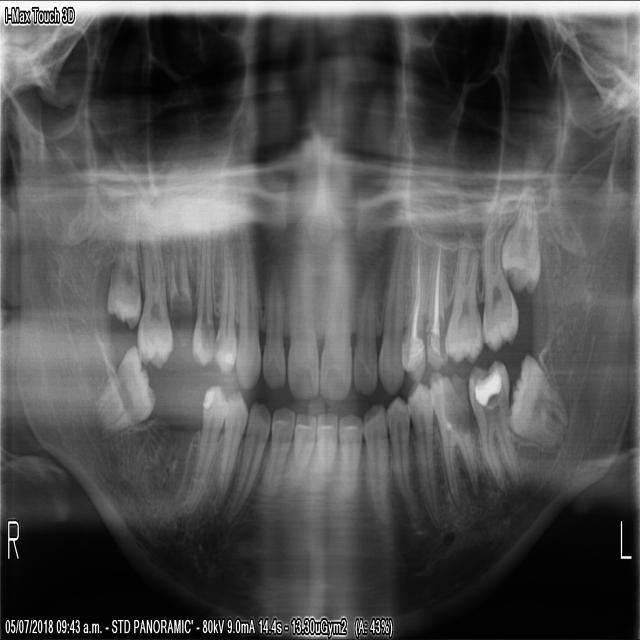LCD: (363, 402, 391, 527)
LCU: (377, 224, 409, 397)
LID: (315, 408, 338, 502), (337, 413, 361, 502)
LIU: (321, 234, 351, 400), (351, 250, 378, 394)
LMD: (467, 357, 520, 492), (429, 372, 480, 510), (506, 353, 568, 452)
LMU: (445, 229, 483, 364), (481, 219, 519, 353), (499, 185, 541, 292)
LPMD: (407, 382, 439, 529), (387, 392, 419, 524)
LPMU: (401, 228, 429, 383), (426, 237, 449, 367)
RCD: (224, 400, 273, 524)
RCU: (235, 222, 261, 392)
RID: (259, 404, 295, 503), (282, 412, 316, 492)
RIU: (287, 239, 321, 399), (262, 248, 286, 390)
RMD: (92, 343, 158, 435)
RMU: (133, 233, 175, 368), (105, 232, 143, 330), (163, 239, 191, 338)
RPMD: (185, 379, 225, 520), (211, 392, 250, 519)
RPMU: (213, 232, 237, 380), (192, 223, 216, 365)
